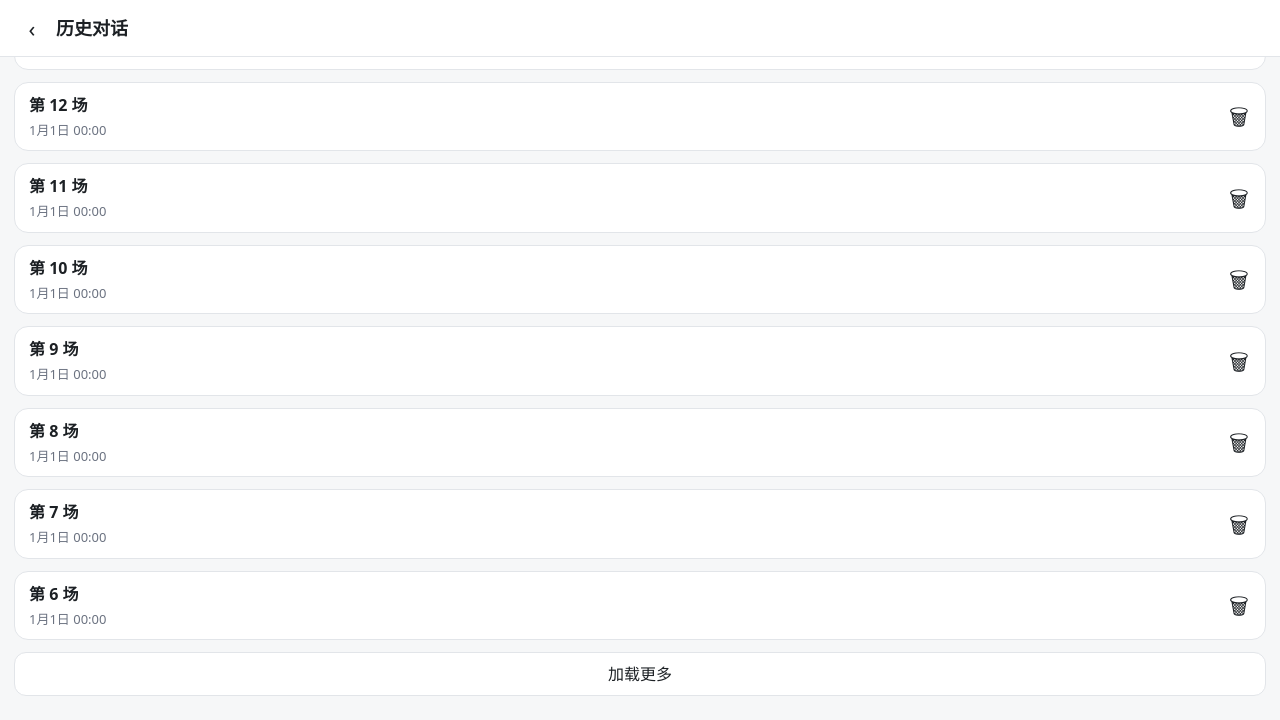
Test: study assistant › history › loads more when there are more than a page
(page scrolled)
Click the button with test id "history-more" at (640, 674), box [14,652,1266,696]
(page scrolled)
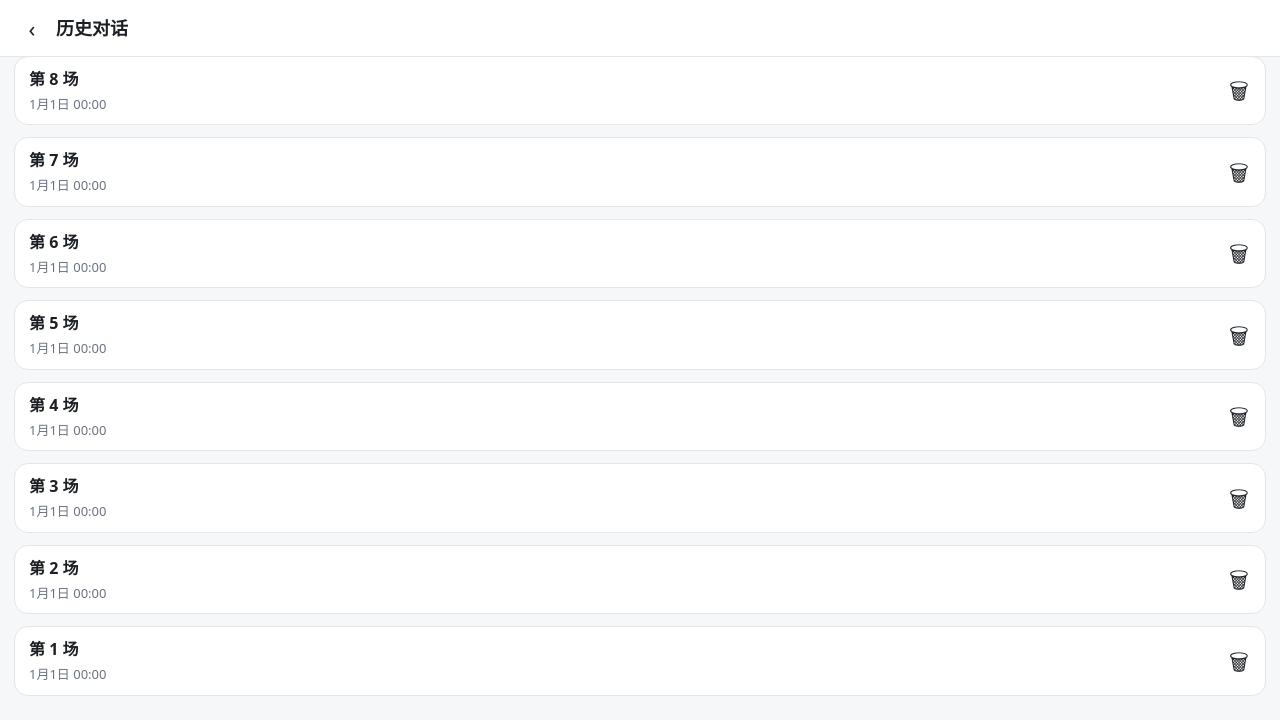
Check: the element with test id "history-row" shows "第 1 场", box [29,637,1207,684]
